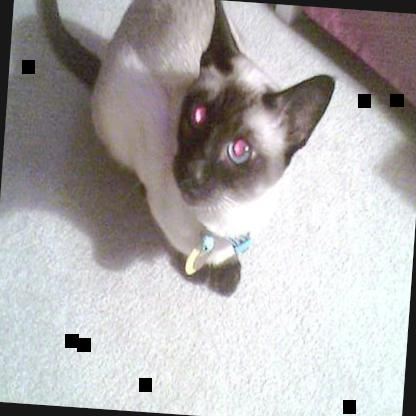cat: (17, 0, 341, 303)
